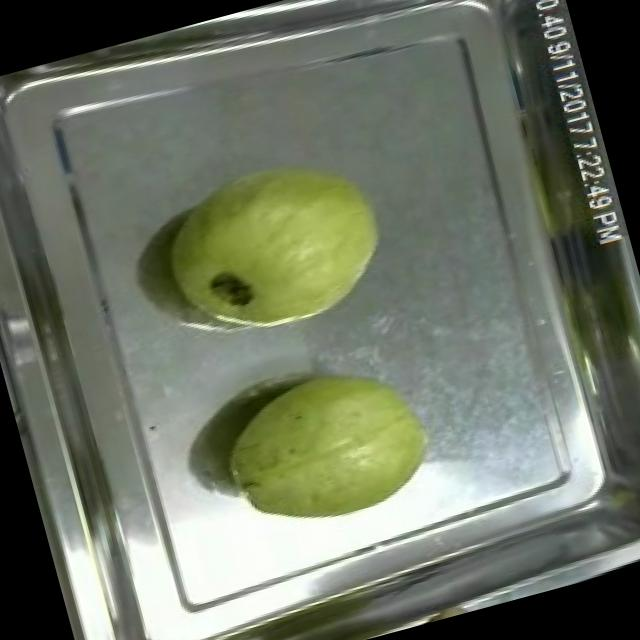Fruit: (138, 132, 404, 360), (205, 342, 450, 551)
